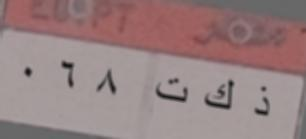0: (21, 60, 41, 88)
6: (57, 56, 79, 94)
8: (95, 65, 119, 102)
kaaf: (205, 76, 235, 125)
taa: (155, 77, 190, 113)
zaal: (248, 82, 275, 125)
